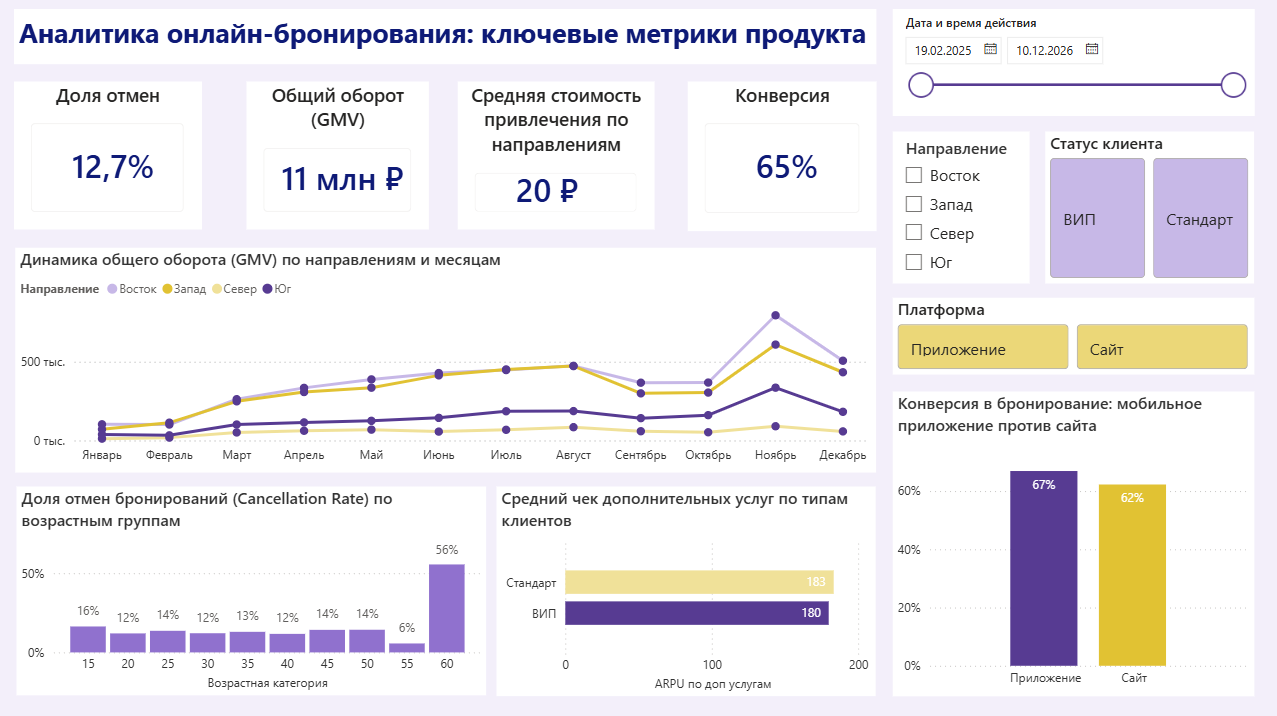

This screenshot's page, from the dashboard's own definition file:
{"tool":"powerbi","page":{"name":"Страница 1","canvas":[1280,720],"ordinal":0},"visuals":[{"type":"slicer","fields":{"Values":["hw_dataset_ada_2026.action_dttm"]},"box":[893.9,9.8,362,106.4],"z":0},{"type":"slicer","fields":{"Values":["hw_dataset_ada_2026.x4"]},"box":[894.2,131.7,137.5,151.7],"z":1000},{"type":"cardVisual","title":"Общий оборот (GMV)","fields":{"Data":["hw_dataset_ada_2026.GMV"]},"box":[247,82.3,182.7,148],"z":2000},{"type":"cardVisual","title":"Конверсия","fields":{"Data":["hw_dataset_ada_2026.CR"]},"box":[688.4,82.3,189.1,149.3],"z":3000},{"type":"cardVisual","title":"Доля отмен","fields":{"Data":["hw_dataset_ada_2026.Cancellation Rate"]},"box":[15.4,82.3,187.9,148],"z":4000},{"type":"clusteredColumnChart","title":"Конверсия в бронирование: мобильное приложение против сайта","fields":{"Category":["hw_dataset_ada_2026.x5"],"Y":["hw_dataset_ada_2026.CR"]},"box":[893.9,392.5,362,304.5],"z":5000},{"type":"advancedSlicerVisual","title":"Платформа","fields":{"Values":["hw_dataset_ada_2026.x5"]},"box":[893.9,298.4,362,77],"z":6000},{"type":"lineChart","title":"Динамика общего оборота (GMV) по направлениям и месяцам","fields":{"Y":["hw_dataset_ada_2026.GMV"],"Series":["hw_dataset_ada_2026.x4"],"Category":["hw_dataset_ada_2026.action_dttm.Изменение.Иерархия дат.Месяц"]},"box":[16.7,248.3,860.8,225.2],"z":7000},{"type":"clusteredBarChart","title":"Средний чек дополнительных услуг по типам клиентов","fields":{"Category":["hw_dataset_ada_2026.x1"],"Y":["hw_dataset_ada_2026.ARPU доп_услуг"]},"box":[498,487.7,379.6,209.7],"z":8000},{"type":"lineClusteredColumnComboChart","title":"Доля отмен бронирований (Cancellation Rate) по возрастным группам","fields":{"Y":["hw_dataset_ada_2026.Cancellation Rate"],"Category":["hw_dataset_ada_2026.x3 (ячейки) (ячейки) 2"]},"box":[17.1,487.9,469.6,209.1],"z":9000},{"type":"textbox","box":[15.4,10.3,862.1,55.3],"z":10000},{"type":"cardVisual","title":"Средняя стоимость привлечения по направлениям","fields":{"Data":["hw_dataset_ada_2026.CAC"]},"box":[459.4,82.3,196.9,148],"z":11000},{"type":"advancedSlicerVisual","fields":{"Values":["hw_dataset_ada_2026.x1"]},"box":[1046.7,132.1,209.1,151.6],"z":12000}]}

Visuals, with their boxes in screenshot pixels (x1, y1, x2, y2), scaled from the page's 1280x720 canvas onto the 1277x716 screenshot:
slicer - hw_dataset_ada_2026.action_dttm: BBox(892, 10, 1253, 116)
slicer - hw_dataset_ada_2026.x4: BBox(892, 131, 1029, 282)
"Общий оборот (GMV)" cardVisual: BBox(246, 82, 429, 229)
"Конверсия" cardVisual: BBox(687, 82, 875, 230)
"Доля отмен" cardVisual: BBox(15, 82, 203, 229)
"Конверсия в бронирование: мобильное приложение против сайта" clusteredColumnChart: BBox(892, 390, 1253, 693)
"Платформа" advancedSlicerVisual: BBox(892, 297, 1253, 373)
"Динамика общего оборота (GMV) по направлениям и месяцам" lineChart: BBox(17, 247, 875, 471)
"Средний чек дополнительных услуг по типам клиентов" clusteredBarChart: BBox(497, 485, 876, 694)
"Доля отмен бронирований (Cancellation Rate) по возрастным группам" lineClusteredColumnComboChart: BBox(17, 485, 486, 693)
textbox: BBox(15, 10, 875, 65)
"Средняя стоимость привлечения по направлениям" cardVisual: BBox(458, 82, 655, 229)
advancedSlicerVisual - hw_dataset_ada_2026.x1: BBox(1044, 131, 1253, 282)
